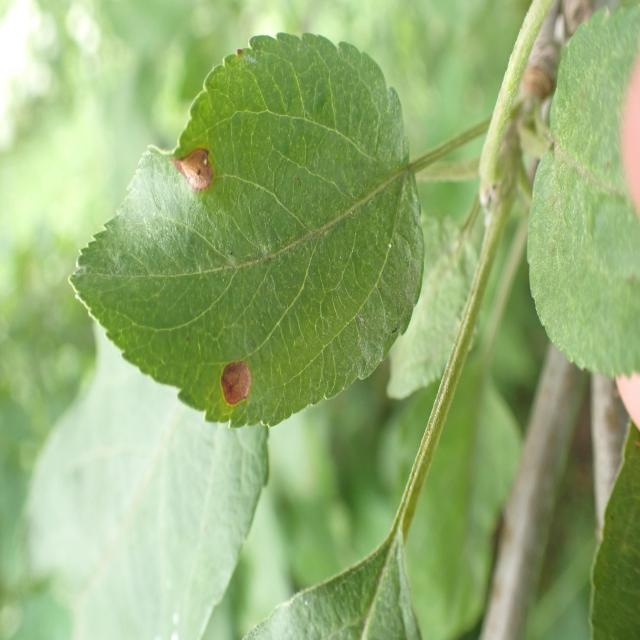frog-eye-leaf-spot: (69, 32, 424, 430)
